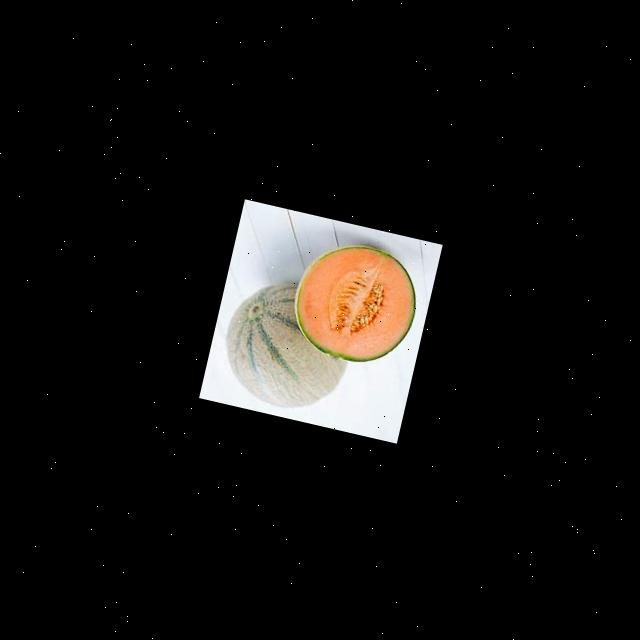Hami Melon: (212, 270, 362, 420), (282, 231, 428, 375)
